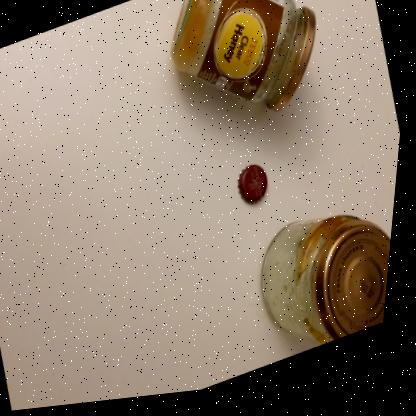Glass: (171, 0, 316, 117), (267, 222, 396, 353)
Metal: (319, 227, 396, 348), (268, 13, 316, 117), (241, 169, 271, 210)
